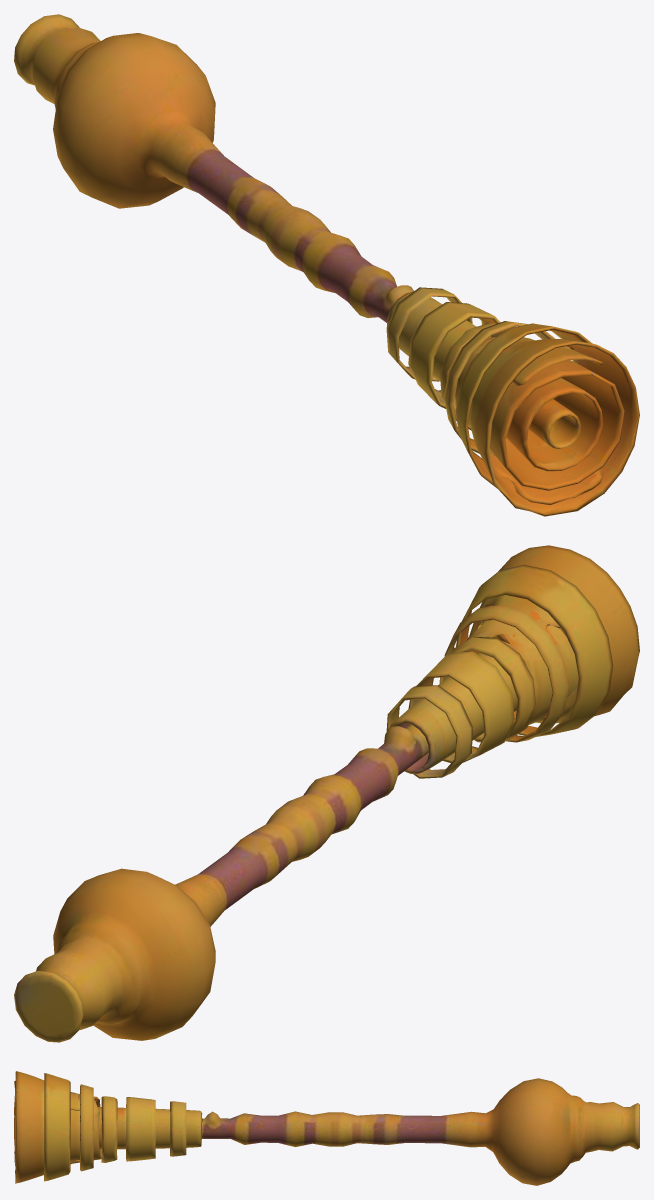
Rendered from Circles.fbx.
3 views of the same model, one above another, from view 1: azimuth 30°, elevation 25°; view 2: azimuth 150°, elevation 25°; view 3: azimuth 270°, elevation 25° (orthographic). The views are drawn at different scales.
Parts seen in each view (by area): view 1: tripo_node_47958ab5; view 2: tripo_node_47958ab5; view 3: tripo_node_47958ab5.
Boxes of the visible parts, x1,y1,x2,y2 form: tripo_node_47958ab5: (14,14,639,516); tripo_node_47958ab5: (14,545,639,1042); tripo_node_47958ab5: (14,1071,639,1185).
Size of the model in its own units: 17.13 by 18.48 by 99.99.
1 material, 1 textured.
